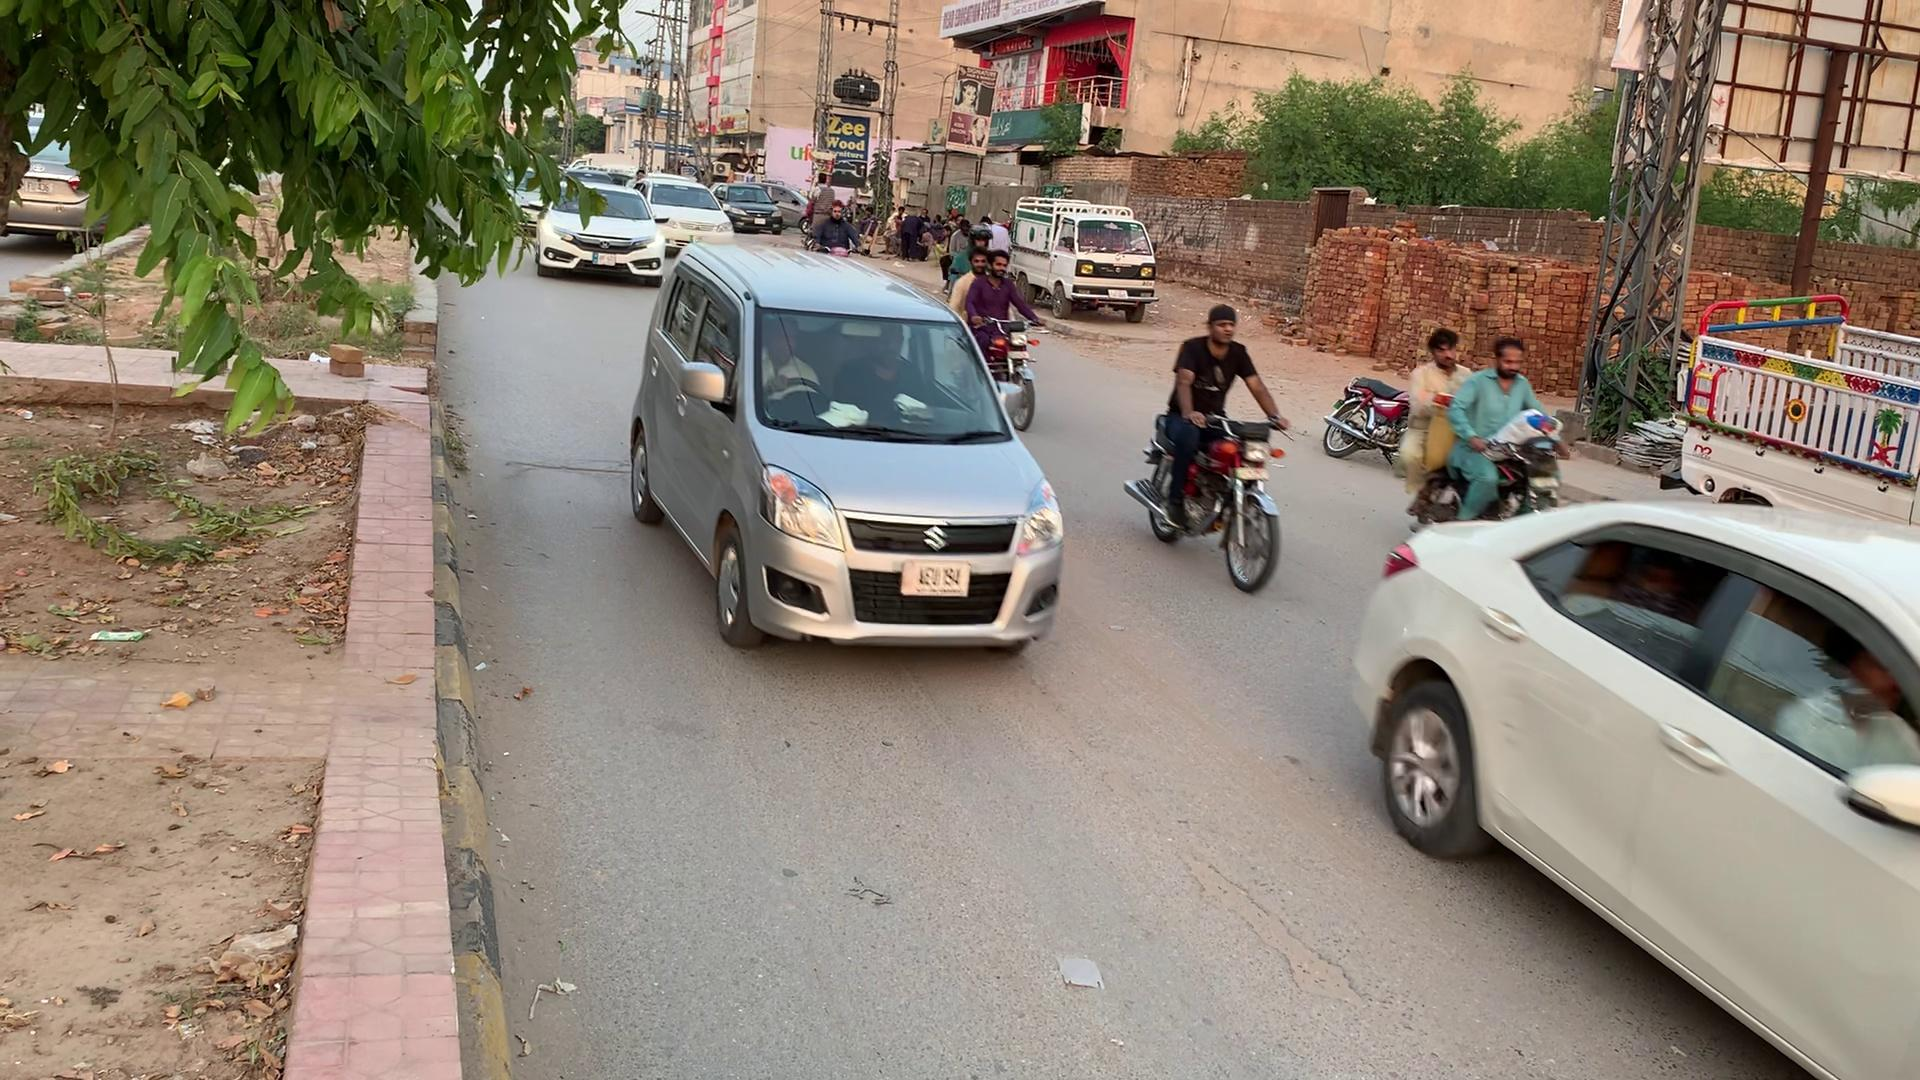windshield: (757, 301, 1031, 447)
